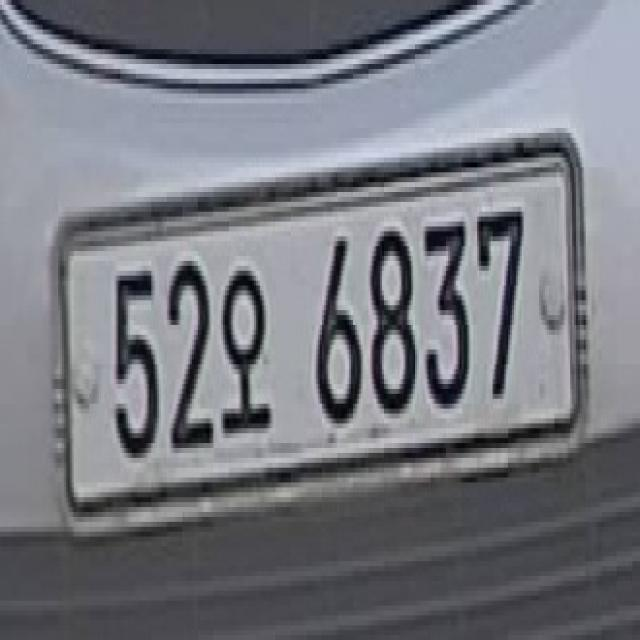2: (164, 249, 214, 462)
3: (425, 217, 469, 420)
5: (110, 259, 160, 471)
6: (307, 230, 364, 440)
7: (475, 205, 532, 412)
8: (370, 226, 417, 433)
license_plate: (44, 111, 590, 569)
o: (220, 259, 276, 464)
